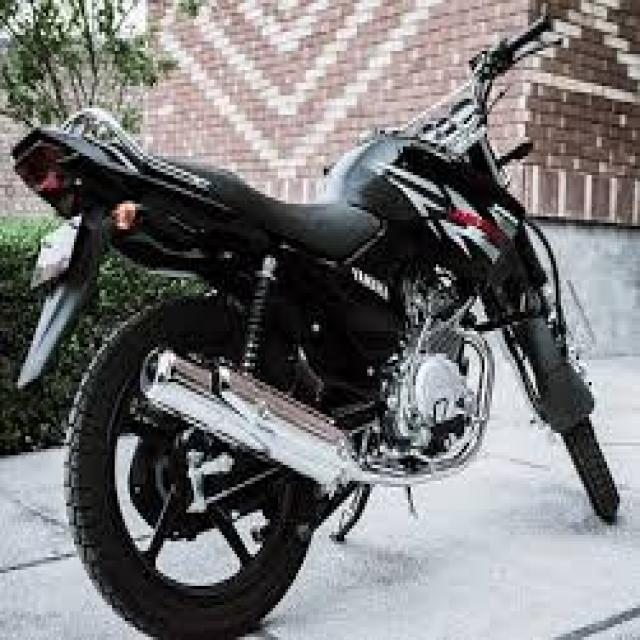Bike: (9, 13, 620, 640)
